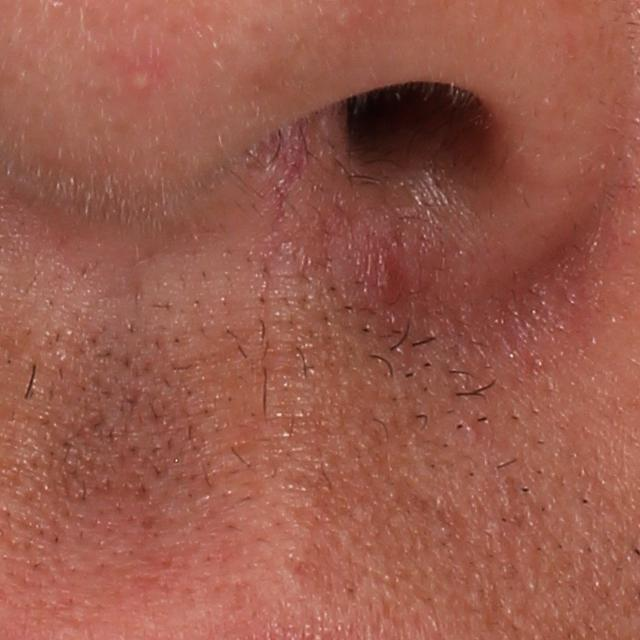papule: (364, 246, 415, 310)
pustule: (126, 64, 160, 94)
